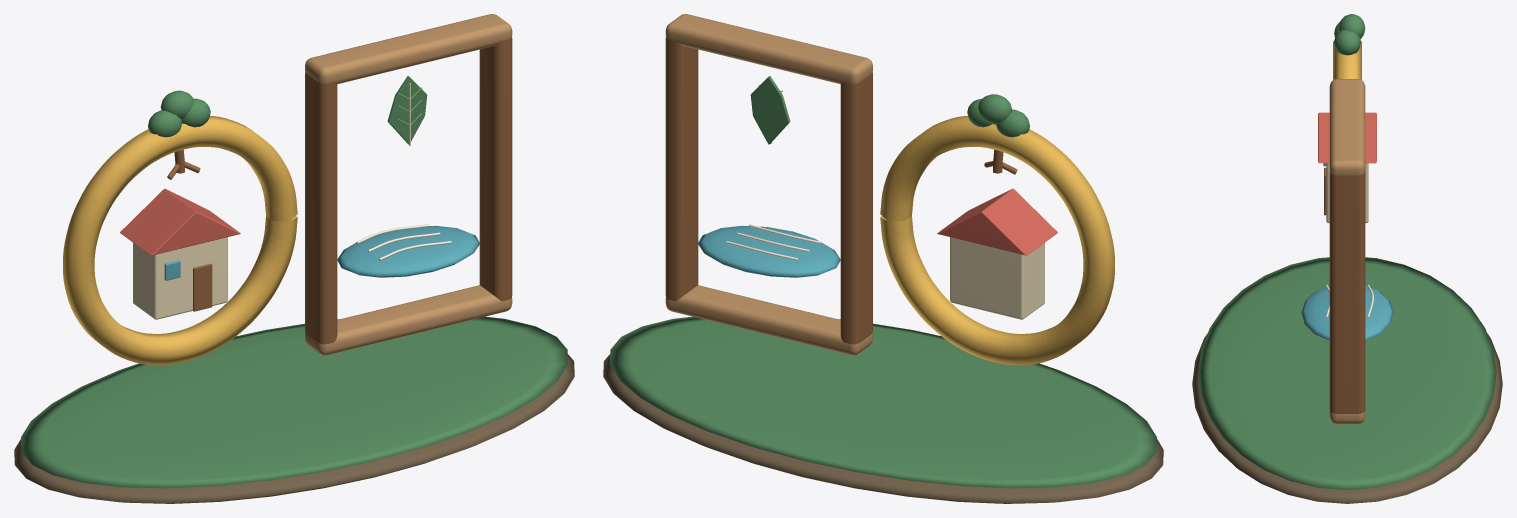
The model's file is complete-first-ringed-surroundings.glb.
The picture shows the model from 3 angles, left to right: view 1: azimuth 30°, elevation 25°; view 2: azimuth 150°, elevation 25°; view 3: azimuth 270°, elevation 25°; orthographic projection. The views are drawn at different scales.
Visible parts, largest first — view 1: complete-first-ringed-surroundings_surface_01, complete-first-ringed-surroundings_surface_02, complete-first-ringed-surroundings_surface_03, complete-first-ringed-surroundings_surface_04, complete-first-ringed-surroundings_surface_00, complete-first-ringed-surroundings_surface_07, complete-first-ringed-surroundings_surface_05, complete-first-ringed-surroundings_surface_06, complete-first-ringed-surroundings_surface_08; view 2: complete-first-ringed-surroundings_surface_01, complete-first-ringed-surroundings_surface_02, complete-first-ringed-surroundings_surface_03, complete-first-ringed-surroundings_surface_04, complete-first-ringed-surroundings_surface_00, complete-first-ringed-surroundings_surface_05, complete-first-ringed-surroundings_surface_07, complete-first-ringed-surroundings_surface_06, complete-first-ringed-surroundings_surface_08; view 3: complete-first-ringed-surroundings_surface_01, complete-first-ringed-surroundings_surface_03, complete-first-ringed-surroundings_surface_00, complete-first-ringed-surroundings_surface_04, complete-first-ringed-surroundings_surface_07, complete-first-ringed-surroundings_surface_06, complete-first-ringed-surroundings_surface_02, complete-first-ringed-surroundings_surface_05.
Part boxes in pixels (x1,y1,x2,y2): complete-first-ringed-surroundings_surface_01: (21,76,567,488); complete-first-ringed-surroundings_surface_02: (63,115,297,365); complete-first-ringed-surroundings_surface_03: (167,37,512,344); complete-first-ringed-surroundings_surface_04: (305,14,512,355); complete-first-ringed-surroundings_surface_00: (14,354,574,503); complete-first-ringed-surroundings_surface_07: (164,225,479,280); complete-first-ringed-surroundings_surface_05: (133,83,410,319); complete-first-ringed-surroundings_surface_06: (120,188,240,255); complete-first-ringed-surroundings_surface_08: (356,224,451,260); complete-first-ringed-surroundings_surface_01: (610,76,1156,488); complete-first-ringed-surroundings_surface_02: (880,115,1114,365); complete-first-ringed-surroundings_surface_03: (665,37,1017,344); complete-first-ringed-surroundings_surface_04: (665,14,872,355); complete-first-ringed-surroundings_surface_00: (603,354,1163,503); complete-first-ringed-surroundings_surface_05: (770,142,1044,319); complete-first-ringed-surroundings_surface_07: (698,225,840,277); complete-first-ringed-surroundings_surface_06: (937,188,1057,255); complete-first-ringed-surroundings_surface_08: (726,224,821,260); complete-first-ringed-surroundings_surface_01: (1198,14,1496,489); complete-first-ringed-surroundings_surface_03: (1324,167,1365,413); complete-first-ringed-surroundings_surface_00: (1192,333,1502,503); complete-first-ringed-surroundings_surface_04: (1329,79,1365,424); complete-first-ringed-surroundings_surface_07: (1301,163,1393,340); complete-first-ringed-surroundings_surface_06: (1318,112,1376,163); complete-first-ringed-surroundings_surface_02: (1333,40,1361,79); complete-first-ringed-surroundings_surface_05: (1326,163,1368,223).
Size of the model in its own units: 4.56 by 2.95 by 2.5.
